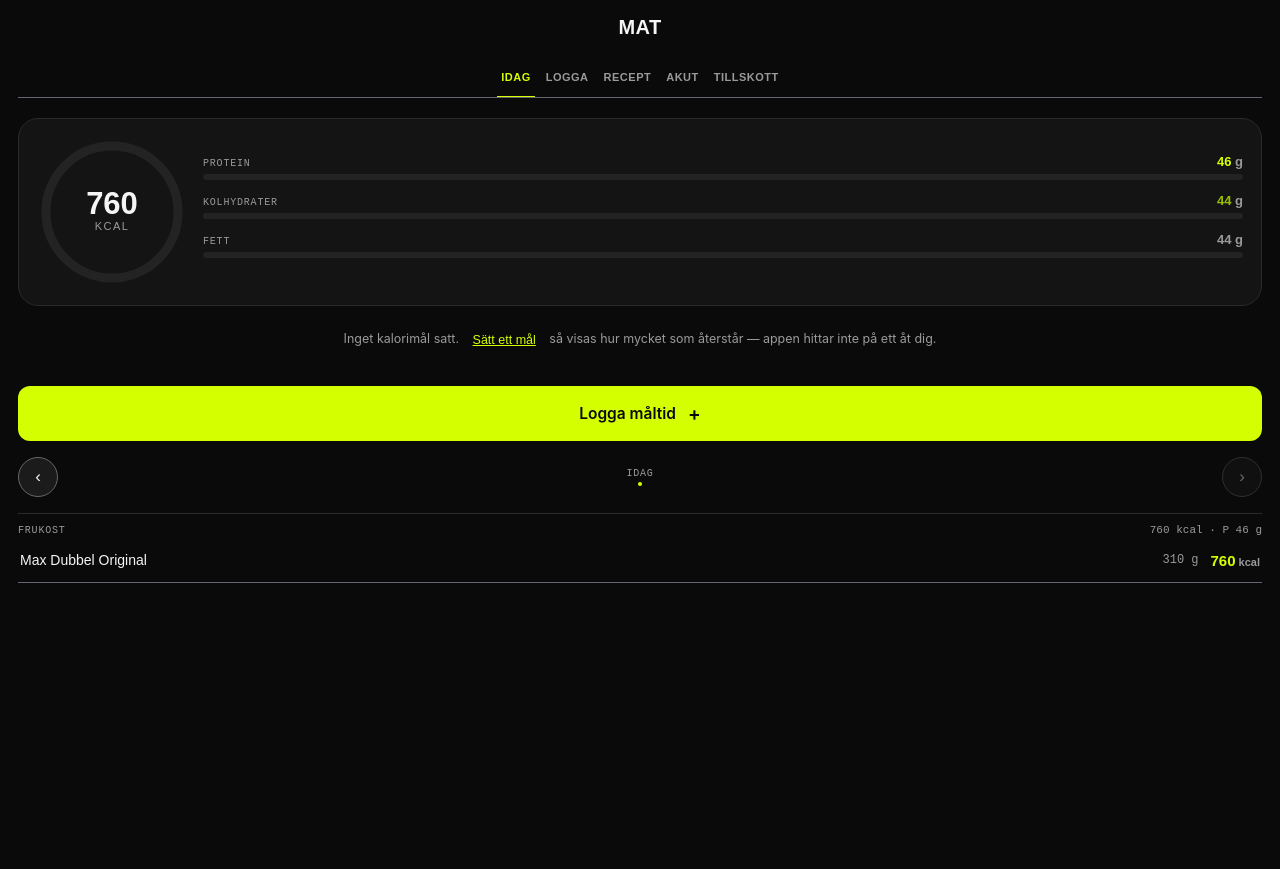
Test: poster utan livsmedel går också att justera › en AI-post har ett kcal-fält
What coordinates should you click on to do the following:
click the button "Max Dubbel Original 310 g 760 kcal"
I would click on:
 (83, 560)
Its box is [18,538,1262,582].
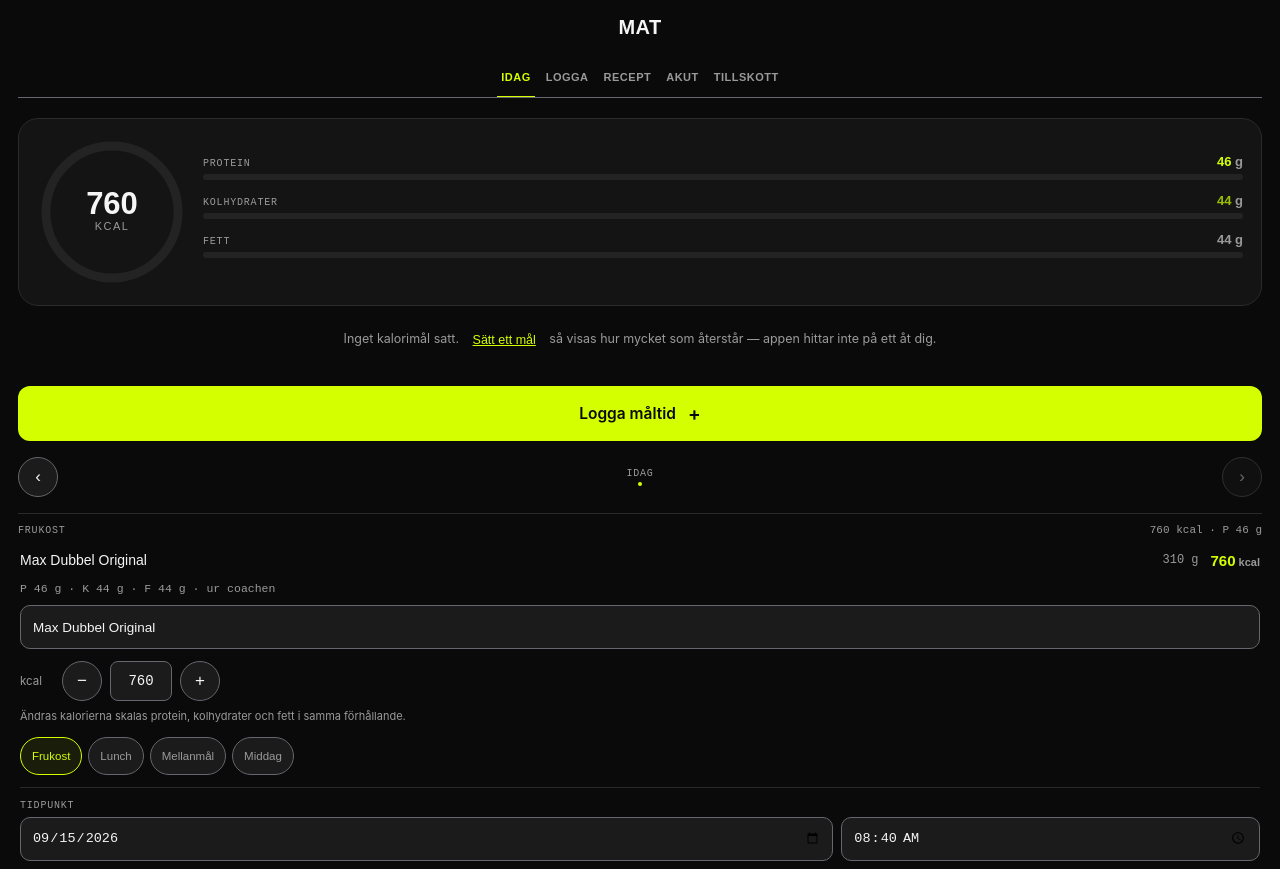
Result: the field named "Kalorier" is shown at [110,661,172,701]
